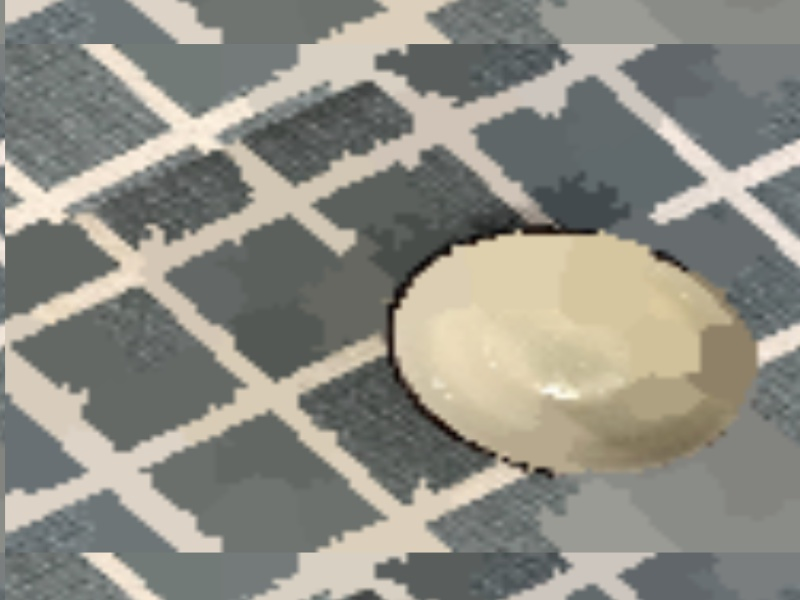bowl_small: (291, 168, 799, 536)
